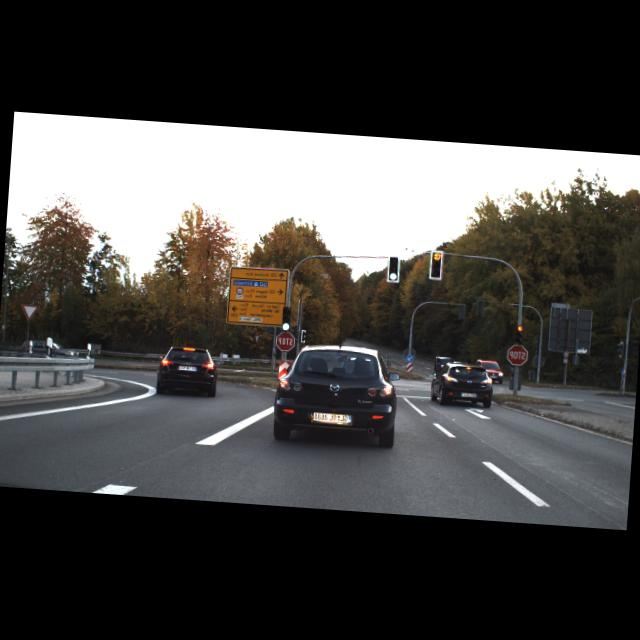mandatory: (405, 353, 414, 362)
other: (507, 344, 528, 364), (276, 330, 296, 350), (20, 302, 40, 320)
